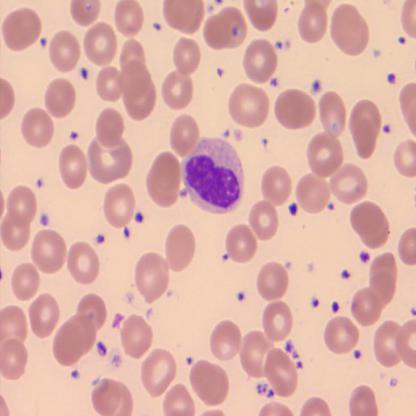Metamyelocyte: (178, 132, 247, 217)
